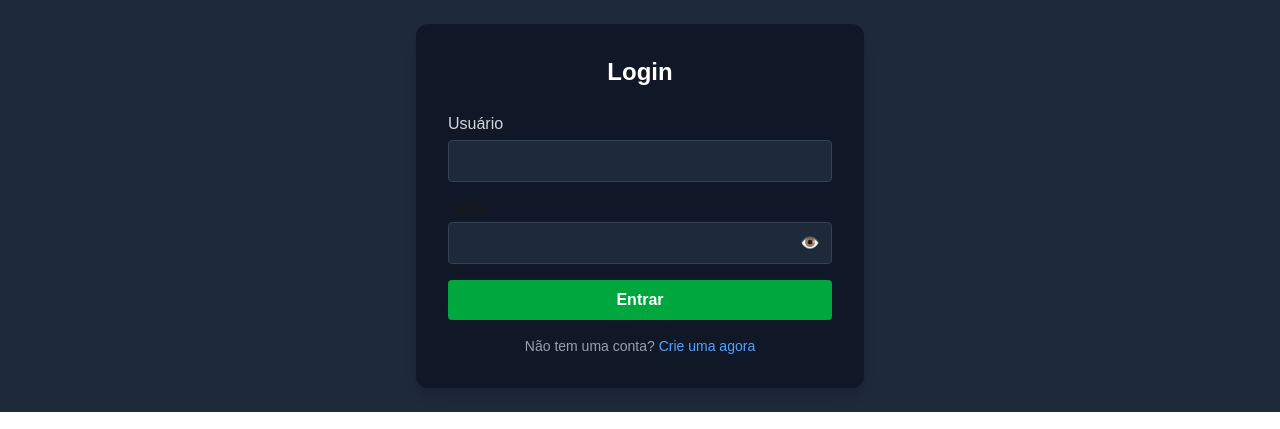
Test case: LoginForm › desabilita botão durante loading
This screenshot has width=1280, height=429.
Type "john" into the field labelled "Usuário" at (640,161), box [448, 140, 832, 182]
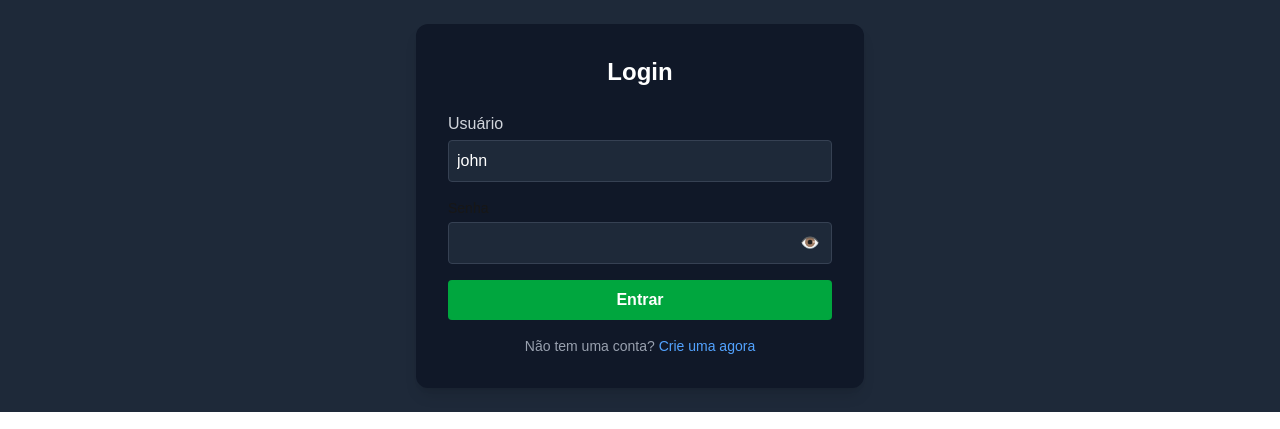
Type "secret" into the password field labelled "Senha" at (640,243), box [448, 222, 832, 264]
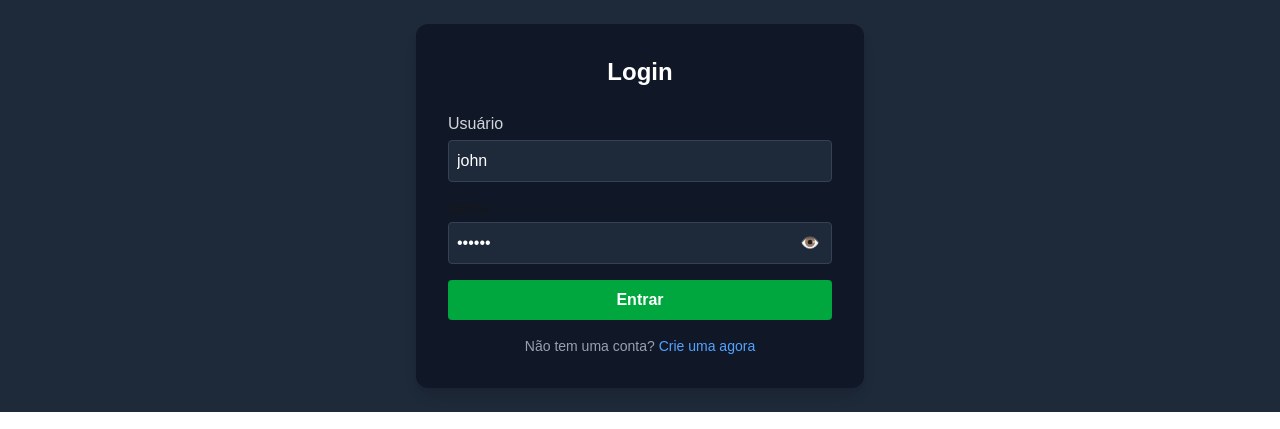
Click the button "Entrar" at (640,300), box [448, 280, 832, 320]
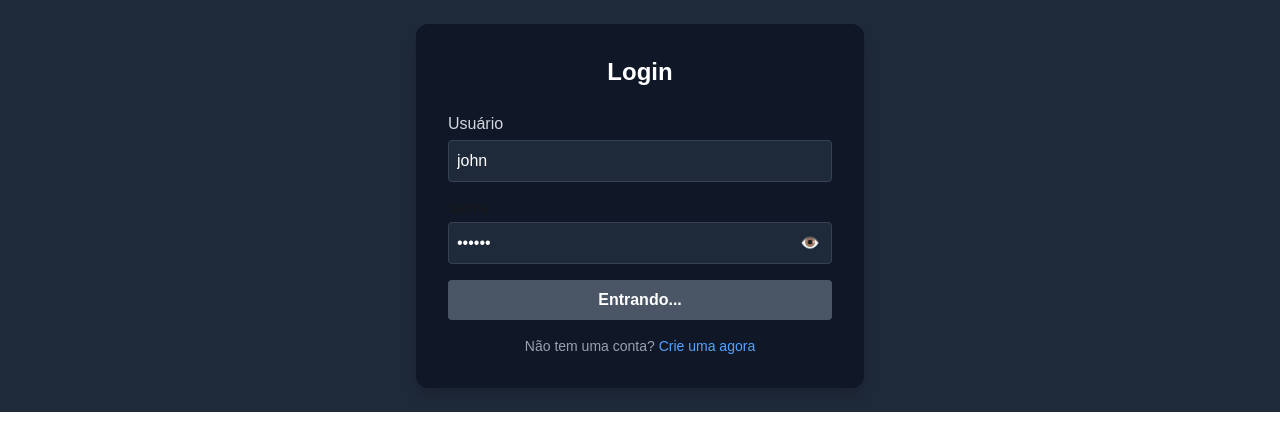
Expected: the button "Entrando..." is disabled, [448, 280, 832, 320]
